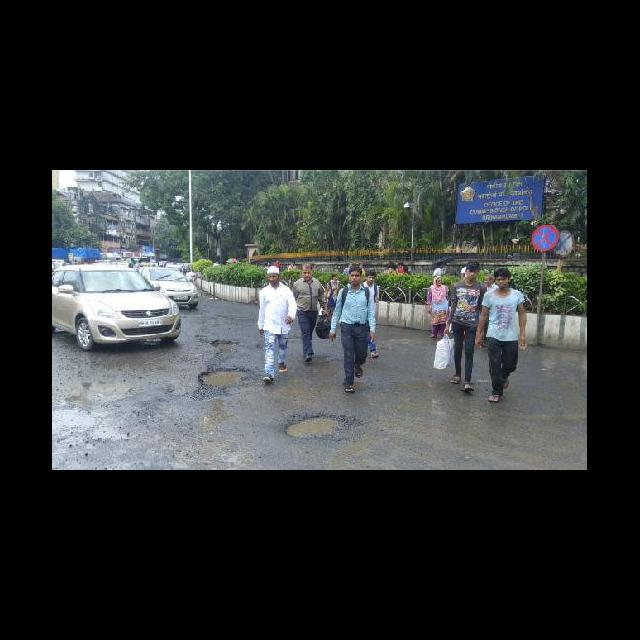lubang_kecil: (183, 353, 263, 405), (279, 399, 358, 450)
